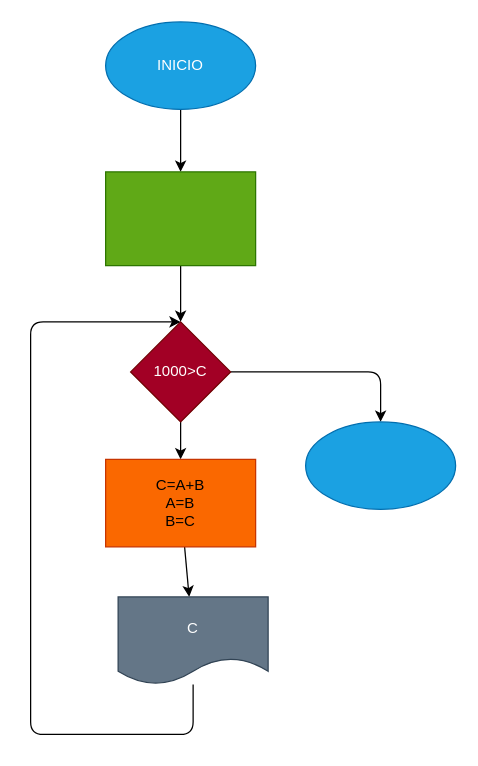
This 478x766 diagram has some shape labels left out. The shapes that lost their labels are listed below. From the top down, each one's centre as x and y in pixels, then its label:
At (x=180, y=218): "A=0 B=1 C=A+B".
At (x=380, y=465): "FI N".
